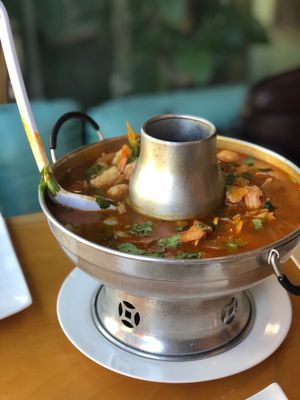sushi: (38, 123, 300, 357)
